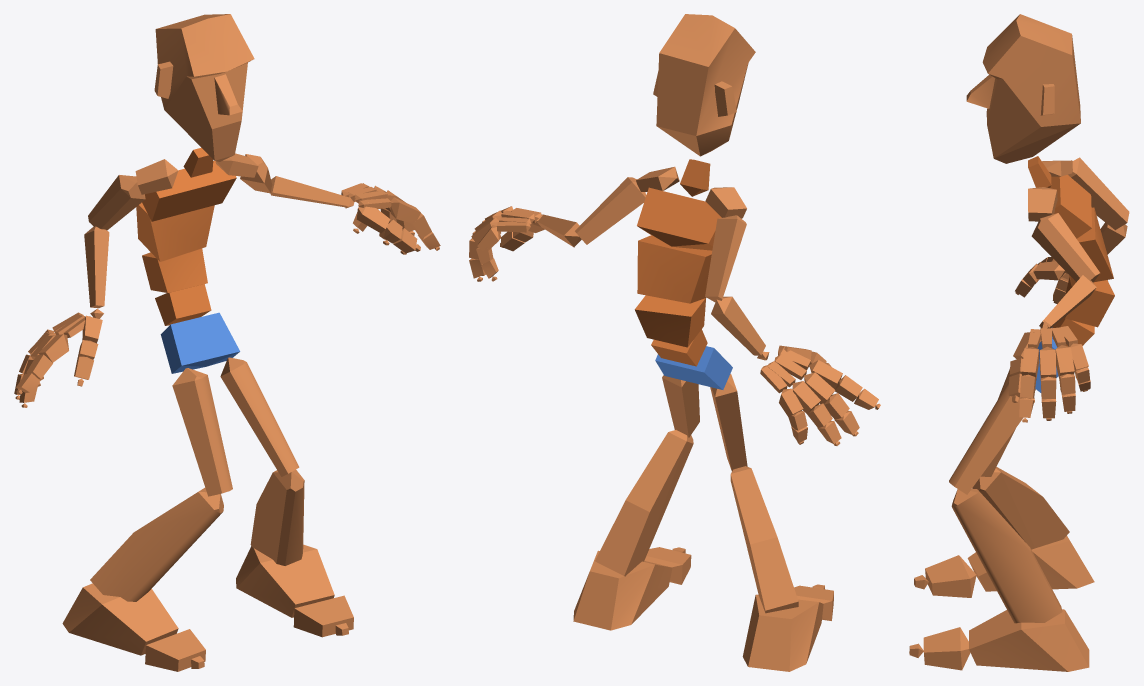
File: prueba56.obj
The picture shows the model from 3 angles, left to right: view 1: azimuth 30°, elevation 25°; view 2: azimuth 150°, elevation 25°; view 3: azimuth 270°, elevation 25°; orthographic projection.
Visible parts, largest first — view 1: BOPED_Head, BOPED_R_leg, BOPED_R_foot, BOPED_R_foot01, BOPED_L_leg, BOPED_R_legup, Bone01, BOPED_L_legup, Bone04, Bone05, Bone03, BOPED_R_arm_upper (+9 smaller); view 2: BOPED_Head, BOPED_L_leg, BOPED_R_leg, BOPED_R_foot01, BOPED_R_foot, Bone04, Bone05, Bone03, BOPED_R_arm_upper, BOPED_L_arm_upper, BOPED_R_legup, Bone01 (+9 smaller); view 3: BOPED_Head, BOPED_L_leg, BOPED_R_foot01, BOPED_R_leg, BOPED_L_legup, BOPED_R_foot, BOPED_L_arm_upper, Bone05, BOPED_R_arm_upper, BOPED_R_foot_toe01, BOPED_R_foot_toe04, Bone03 (+15 smaller).
Part boxes in pixels (<box>): BOPED_Head: <box>154,14,254,161</box>; BOPED_R_leg: <box>90,487,223,601</box>; BOPED_R_foot: <box>62,583,178,655</box>; BOPED_R_foot01: <box>236,544,334,617</box>; BOPED_L_leg: <box>250,469,304,565</box>; BOPED_R_legup: <box>172,368,232,496</box>; Bone01: <box>160,312,240,373</box>; BOPED_L_legup: <box>220,357,299,476</box>; Bone04: <box>136,202,214,261</box>; Bone05: <box>142,161,236,221</box>; Bone03: <box>142,248,207,292</box>; BOPED_R_arm_upper: <box>88,175,145,230</box>; BOPED_Head: <box>653,14,755,156</box>; BOPED_L_leg: <box>595,430,693,576</box>; BOPED_R_leg: <box>730,466,798,613</box>; BOPED_R_foot01: <box>573,550,672,630</box>; BOPED_R_foot: <box>742,594,823,671</box>; Bone04: <box>637,235,712,303</box>; Bone05: <box>637,187,721,250</box>; Bone03: <box>634,295,705,347</box>; BOPED_R_arm_upper: <box>705,215,746,302</box>; BOPED_L_arm_upper: <box>575,177,646,244</box>; BOPED_R_legup: <box>710,374,747,471</box>; Bone01: <box>655,346,732,389</box>; BOPED_Head: <box>966,14,1080,163</box>; BOPED_L_leg: <box>951,489,1062,623</box>; BOPED_R_foot01: <box>969,609,1089,671</box>; BOPED_R_leg: <box>972,467,1069,549</box>; BOPED_L_legup: <box>949,382,1034,494</box>; BOPED_R_foot: <box>967,536,1094,591</box>; BOPED_L_arm_upper: <box>1031,213,1099,282</box>; Bone05: <box>1050,174,1092,238</box>; BOPED_R_arm_upper: <box>1068,157,1129,230</box>; BOPED_R_foot_toe01: <box>925,555,976,597</box>; BOPED_R_foot_toe04: <box>923,627,970,670</box>; Bone03: <box>1064,277,1114,327</box>.
Size of the model in its own units: 130 by 181 by 60.42.
